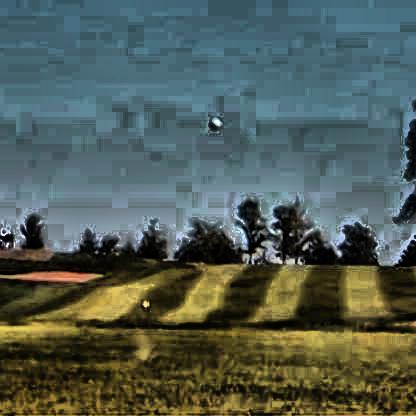golfball: (207, 114, 218, 127)
